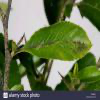Apple Scab Leaf: (19, 19, 93, 65)
